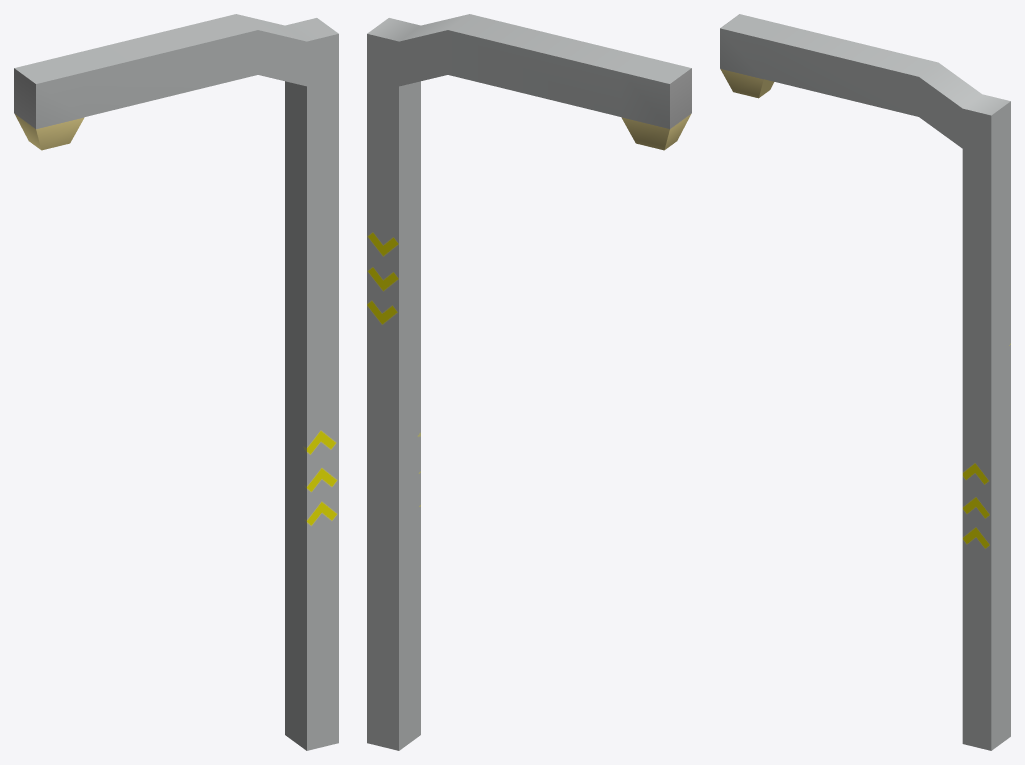
The model's file is ChaosZooCityMapLightPoleR.fbx.
The picture shows the model from 3 angles, left to right: view 1: azimuth 30°, elevation 25°; view 2: azimuth 150°, elevation 25°; view 3: azimuth 330°, elevation 25°; orthographic projection. The views are drawn at different scales.
Visible parts, largest first — view 1: pCube69; view 2: pCube69; view 3: pCube69.
Part boxes in pixels (x1,y1,x2,y2): pCube69: (14,14,338,750); pCube69: (367,14,691,750); pCube69: (720,14,1010,750).
Bounding box in the file's own units: 16.14 × 37.32 × 2.02.
